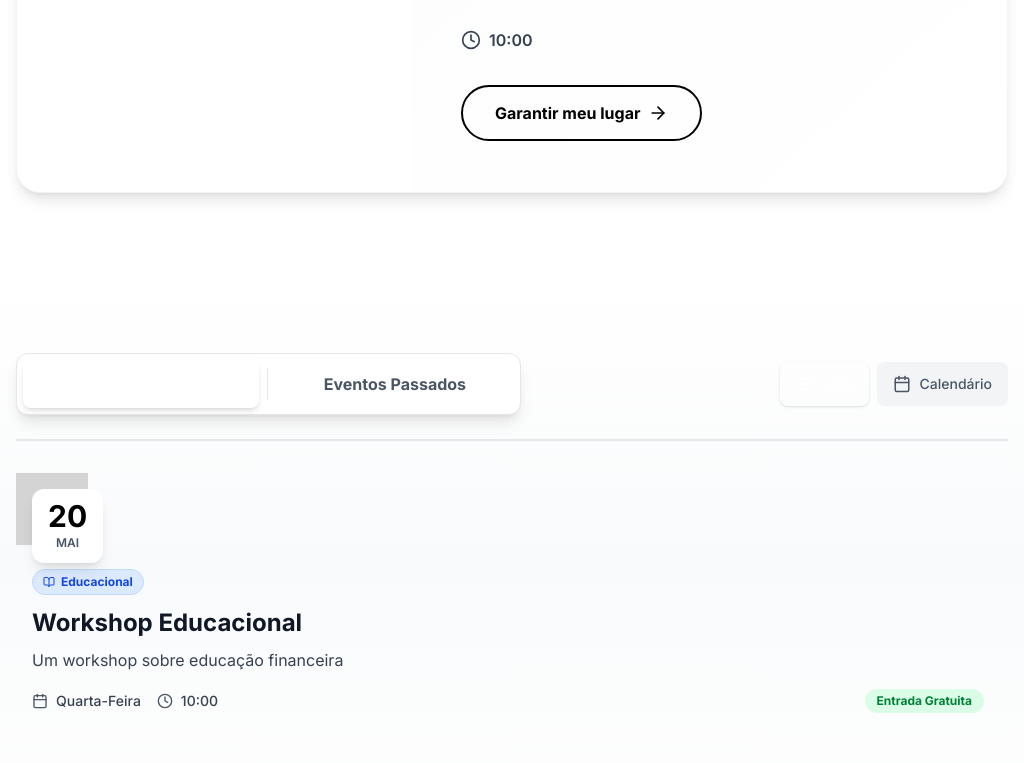
Scenario: CalendarioEventosTemplate › renders both upcoming and past events sections when both exist
The image size is (1024, 763).
(page scrolled)
expect the tab with aria-label "Ver próximos eventos" is shown: met, box [23, 360, 259, 408]
Click on past events tab
Click the tab with aria-label "Ver eventos passados".
click(395, 384)  # box [276, 360, 514, 408]
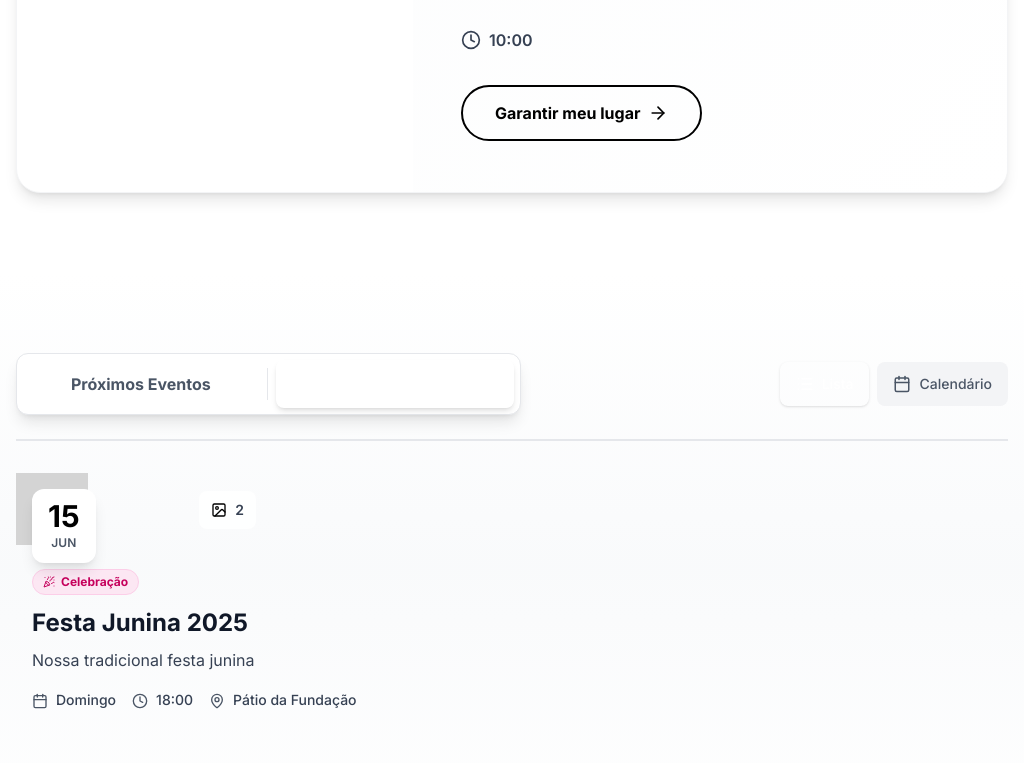
expect the heading "Festa Junina 2025" is shown: met, box [32, 608, 248, 637]
